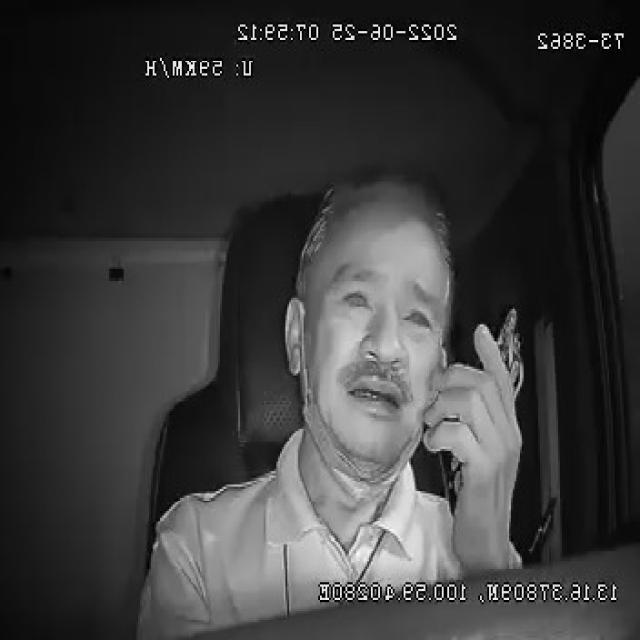phone: (436, 300, 527, 524)
